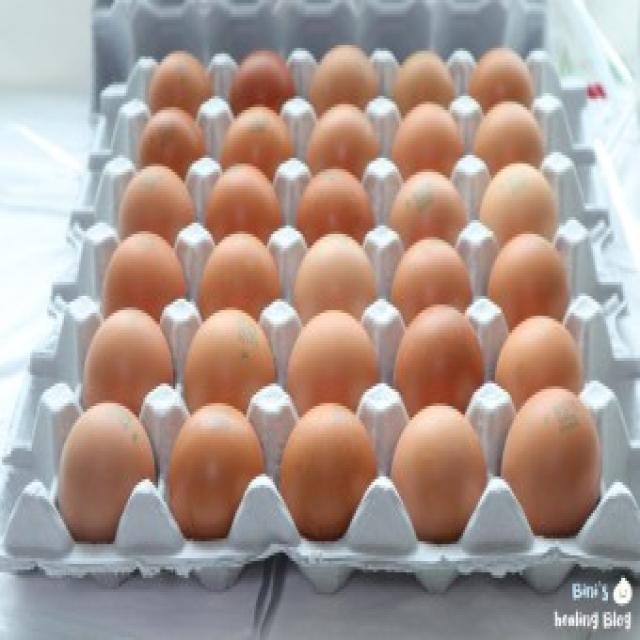eggs: (51, 400, 161, 546), (502, 384, 600, 542), (274, 404, 376, 553), (389, 401, 494, 545), (166, 399, 264, 546), (180, 301, 281, 429), (287, 307, 383, 419), (84, 302, 179, 415), (395, 303, 485, 419), (494, 313, 585, 410), (483, 232, 573, 327), (190, 234, 283, 324), (93, 236, 191, 314), (382, 236, 479, 312), (288, 237, 374, 321)
